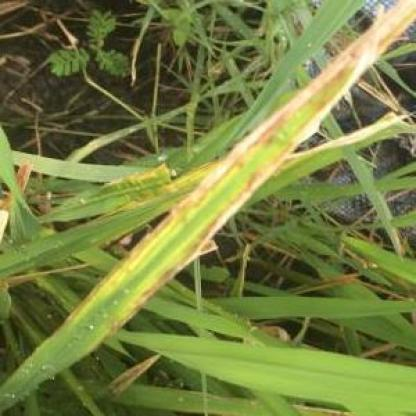Blight: (94, 1, 416, 319)
